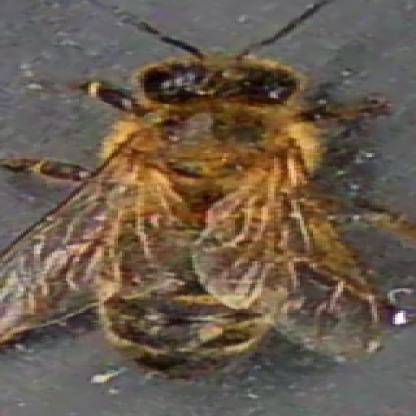bee: (83, 46, 337, 378)
